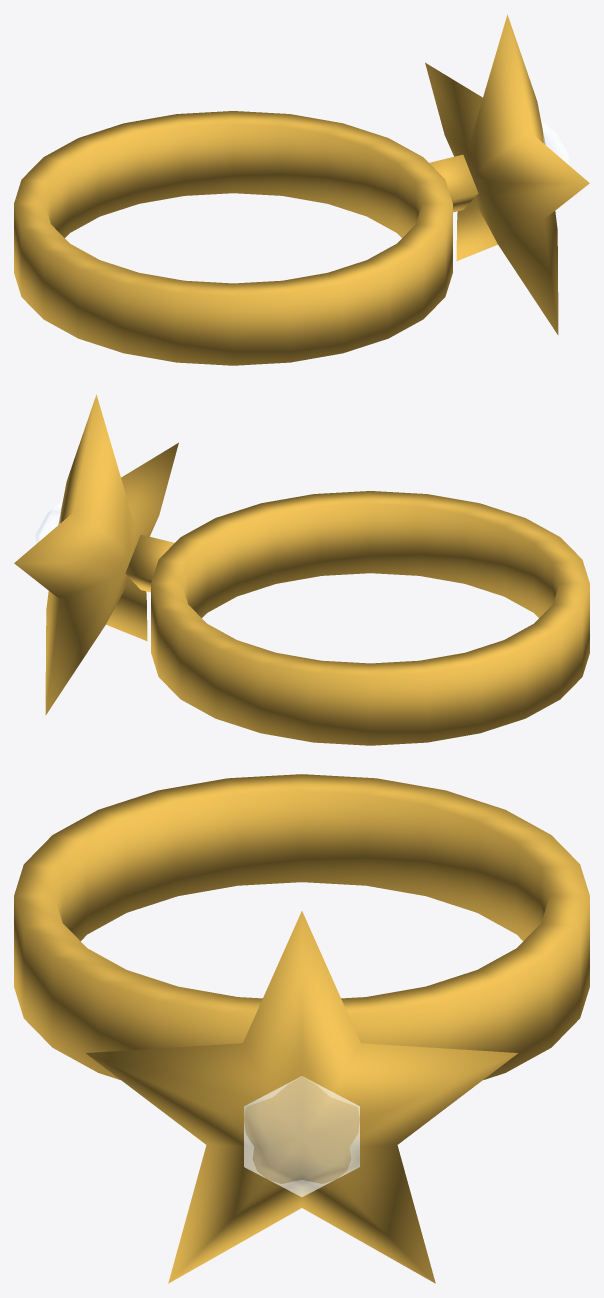
Rendered from star_ring.glb.
3 renders of one model, top to bottom at view 1: azimuth 30°, elevation 25°; view 2: azimuth 150°, elevation 25°; view 3: azimuth 270°, elevation 25°, orthographic. The views are drawn at different scales.
Visible parts, largest first — view 1: star_ring; view 2: star_ring; view 3: star_ring.
Part boxes in pixels (bbox=[...]): star_ring: bbox=[14, 14, 589, 365]; star_ring: bbox=[14, 394, 589, 745]; star_ring: bbox=[14, 774, 589, 1283].
Bounding box in the file's own units: 0.0232 × 0.0123 × 0.0172.
